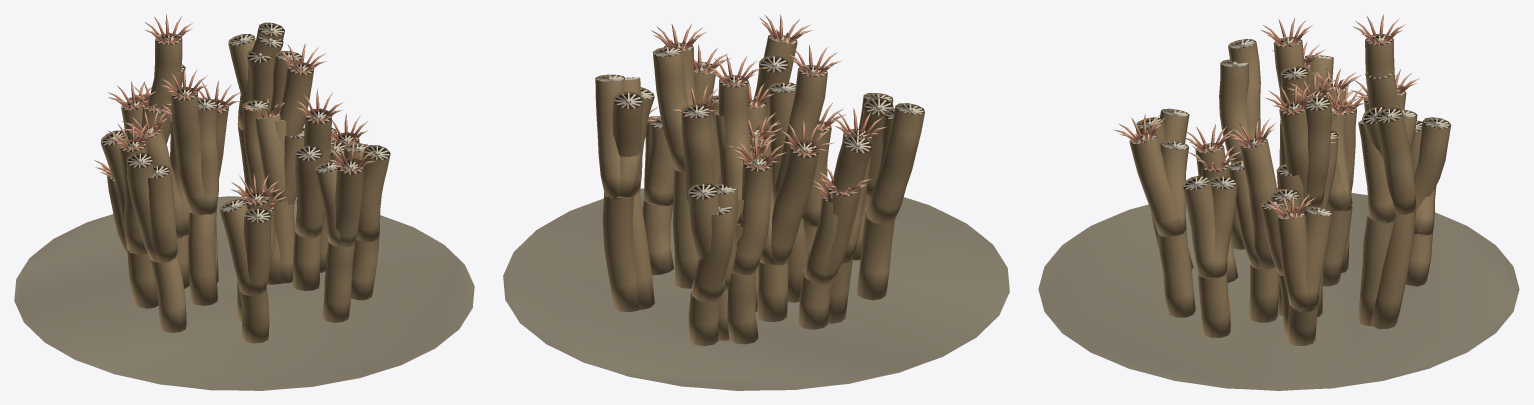
The model's file is Waagenophyllum.fbx.
The picture shows the model from 3 angles, left to right: view 1: azimuth 30°, elevation 25°; view 2: azimuth 150°, elevation 25°; view 3: azimuth 270°, elevation 25°; orthographic projection. The views are drawn at different scales.
Parts seen in each view (by area): view 1: Waagenophyllum; view 2: Waagenophyllum; view 3: Waagenophyllum.
Boxes of the visible parts, x1,y1,x2,y2 form: Waagenophyllum: (14, 14, 474, 390); Waagenophyllum: (503, 14, 1009, 390); Waagenophyllum: (1038, 14, 1519, 390).
Size of the model in its own units: 1.4 by 0.8144 by 1.4.
